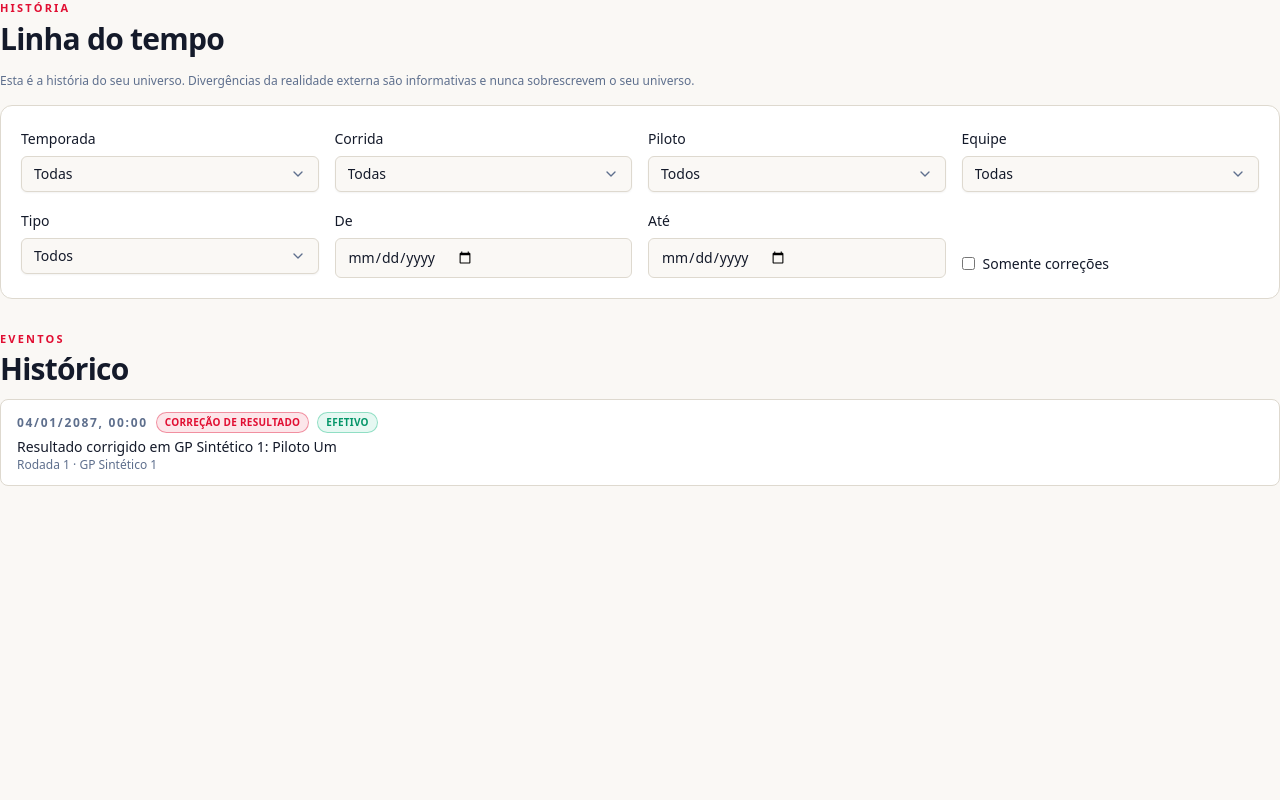
Test case: TimelineEventPanel editor › 4) kind bloqueado desabilita o botão e explica o motivo
This screenshot has width=1280, height=800.
Click the button named "Resultado corrigido em GP Sintético 1: Piloto Um": (82, 422) top-left (0, 399), bottom-right (1279, 486)
(page scrolled)
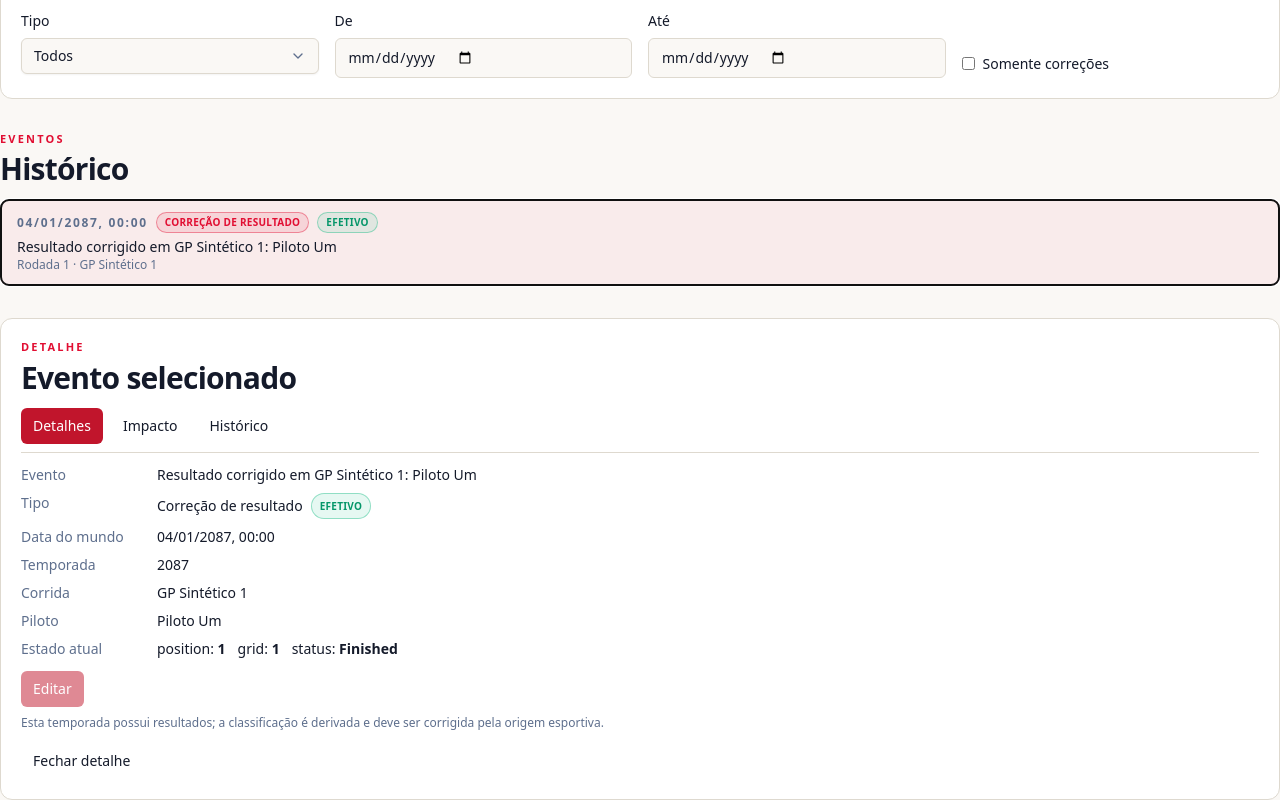
Now the button "Editar" is disabled, box top-left (21, 670), bottom-right (84, 706)
Now the text "a classificação é derivada" is shown, box top-left (21, 714), bottom-right (604, 730)
